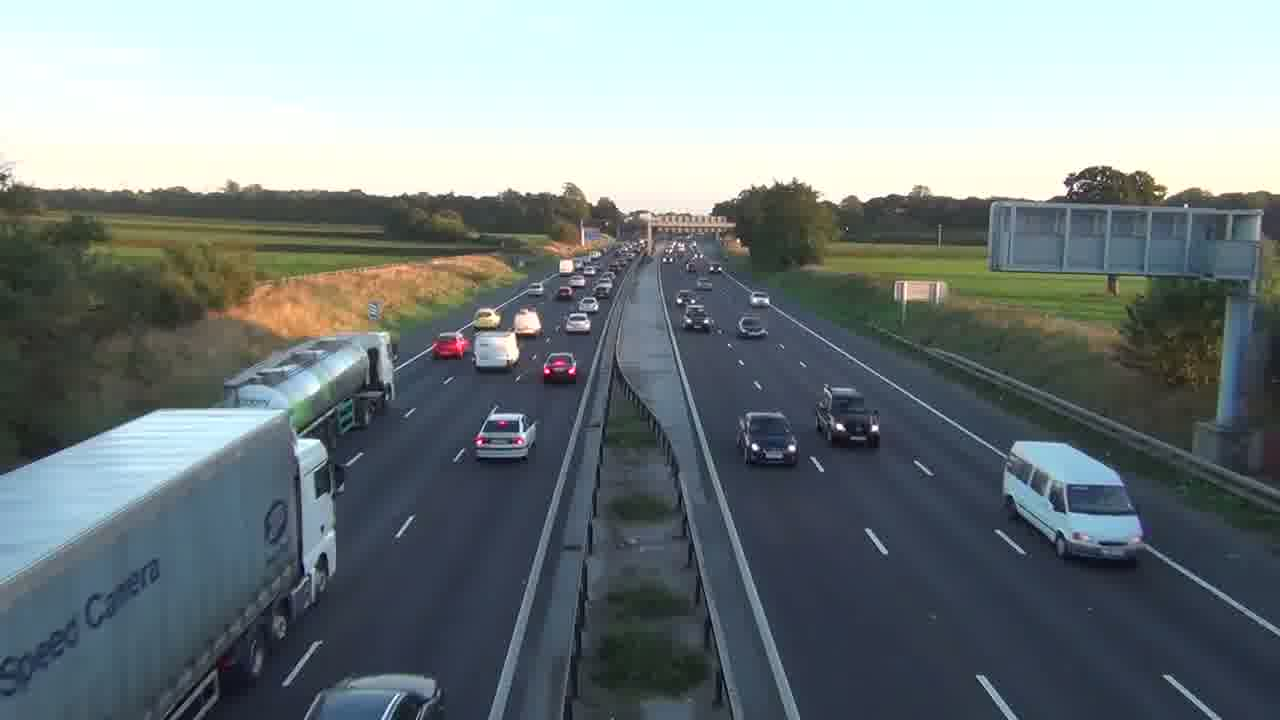car: (303, 671, 446, 719), (736, 410, 799, 467), (472, 411, 540, 461), (541, 352, 579, 385), (430, 329, 471, 359), (431, 335, 469, 359), (737, 315, 768, 339), (562, 313, 591, 335), (749, 291, 771, 308)
truck: (0, 405, 343, 715), (1002, 439, 1145, 564), (814, 384, 880, 447), (473, 329, 520, 372)
